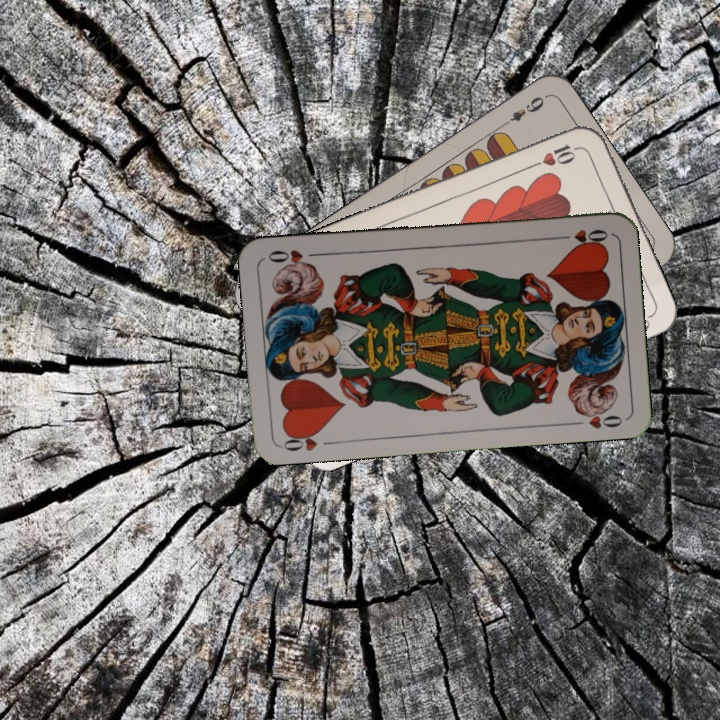E9: (497, 92, 549, 131)
H10: (526, 140, 583, 171)
HO: (277, 426, 325, 454), (552, 225, 611, 247)
